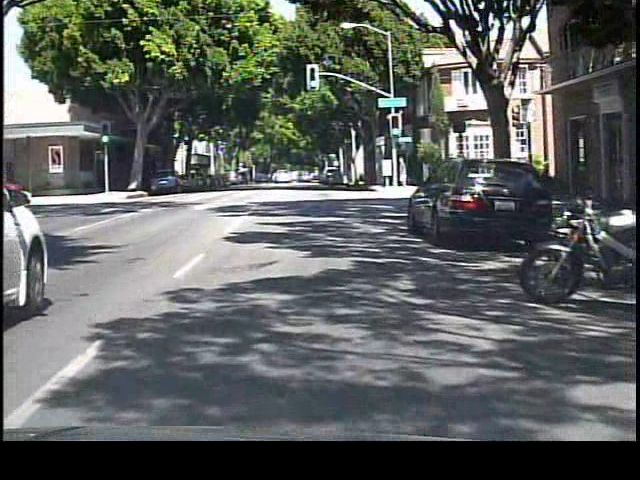person: (394, 156, 412, 192)
